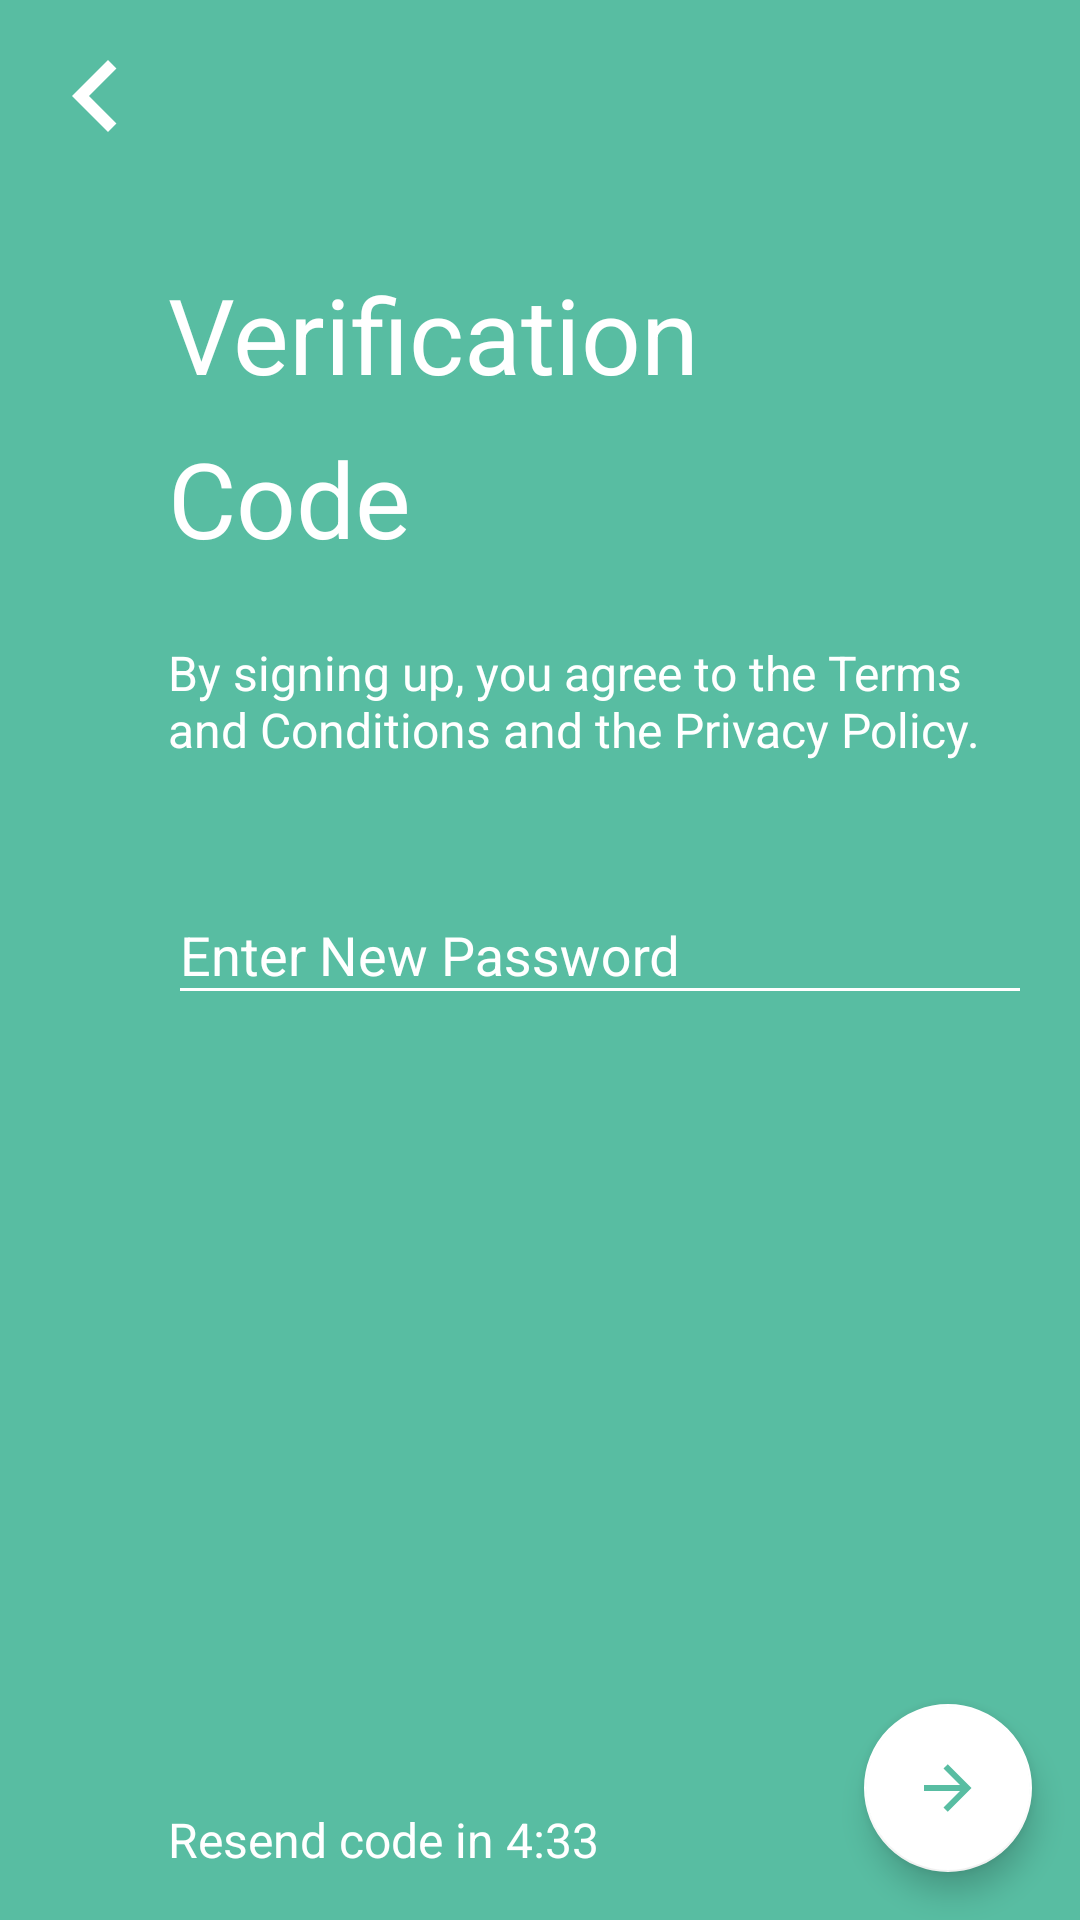

Screen size 1080px×1920px. Icon name, then its center in pixels as (x=x, y=y):
arrow left: (x=94, y=96)
arrow right: (x=948, y=1788)
